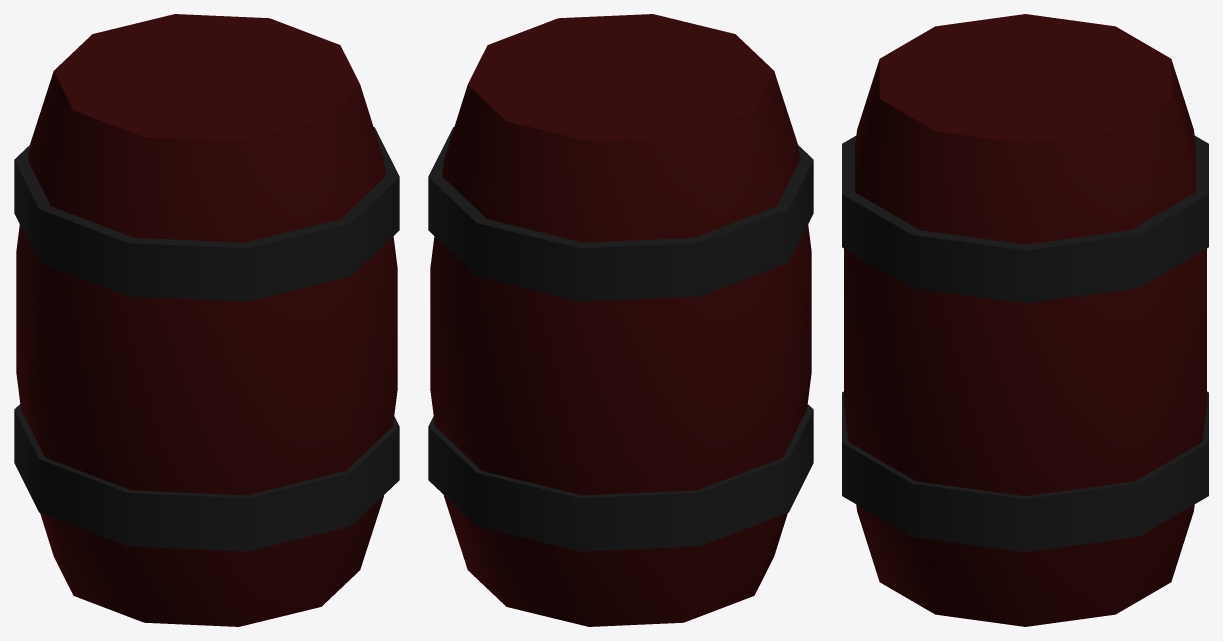
Rendered from barrel_explosive.FBX.
3 renders of one model, left to right at view 1: azimuth 30°, elevation 25°; view 2: azimuth 150°, elevation 25°; view 3: azimuth 270°, elevation 25°, orthographic.
Visible parts, largest first — view 1: Zylinder001; view 2: Zylinder001; view 3: Zylinder001.
Part boxes in pixels (x1,y1,x2,y2): Zylinder001: (14,14,399,626); Zylinder001: (428,14,813,626); Zylinder001: (842,14,1208,626).
Bounding box in the file's own units: 0.3083 × 0.2932 × 0.4262.
